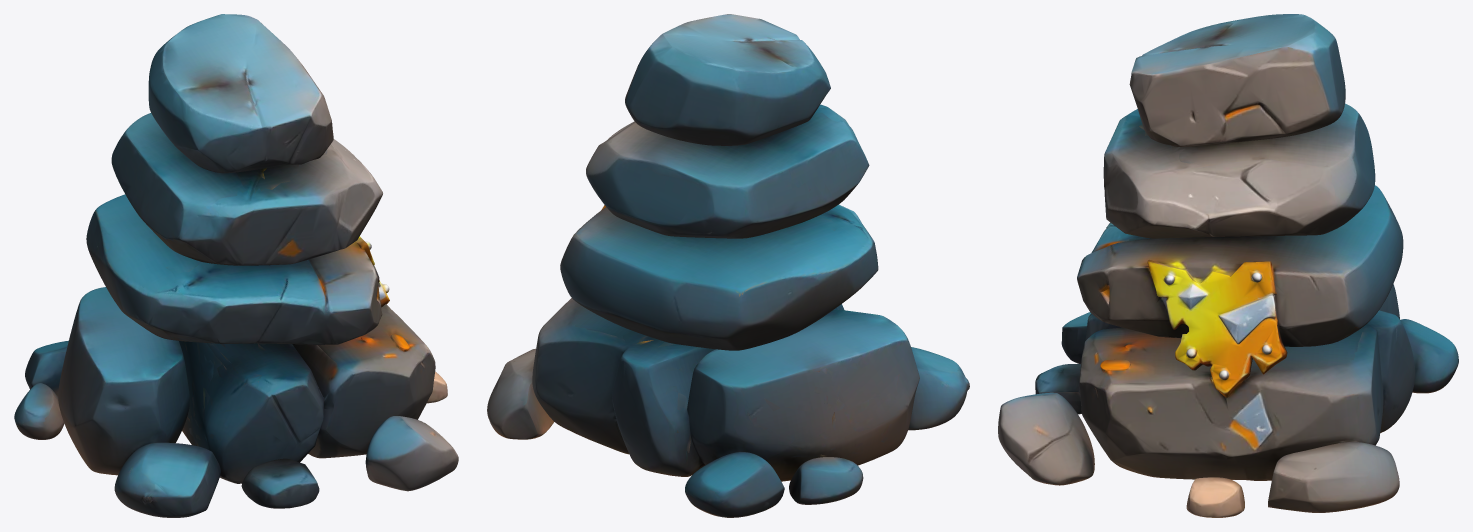
File: Cairn.opt.glb
3 renders of one model, left to right at view 1: azimuth 30°, elevation 25°; view 2: azimuth 150°, elevation 25°; view 3: azimuth 270°, elevation 25°, orthographic. The views are drawn at different scales.
Parts seen in each view (by area): view 1: node_0; view 2: node_0; view 3: node_0.
Part boxes in pixels (x1,y1,x2,y2): node_0: (14,14,458,517); node_0: (487,14,969,517); node_0: (998,14,1458,517).
Size of the model in its own units: 0.779 by 0.7781 by 0.8168.
1 material, 1 textured.
